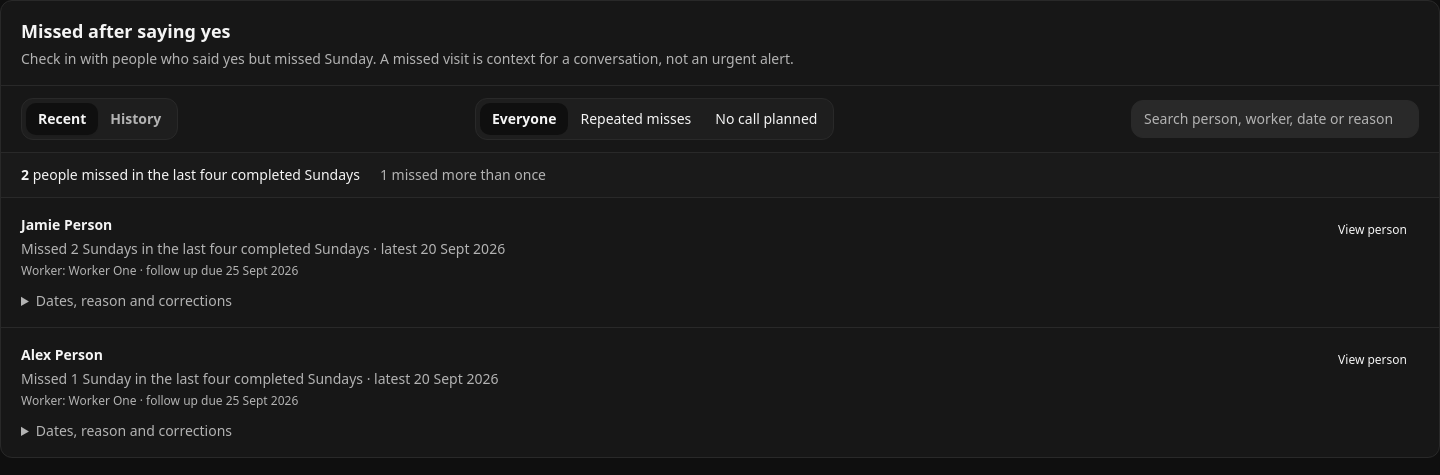
Test: MissedSundayFollowUp › filters repeated misses by distinct Sundays in the recent window
Click the button "Repeated misses".
click(636, 119)  # box [568,103,703,135]
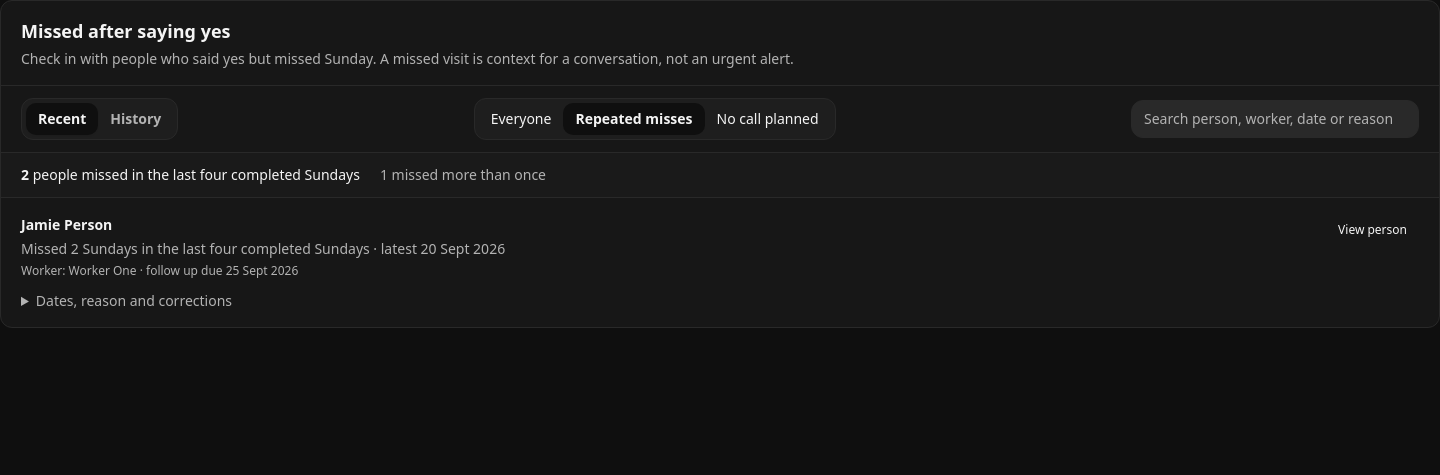
Expected: the button "Jamie Person" is shown, [21,214,112,235]
Expected: the button "Alex Person" is gone
